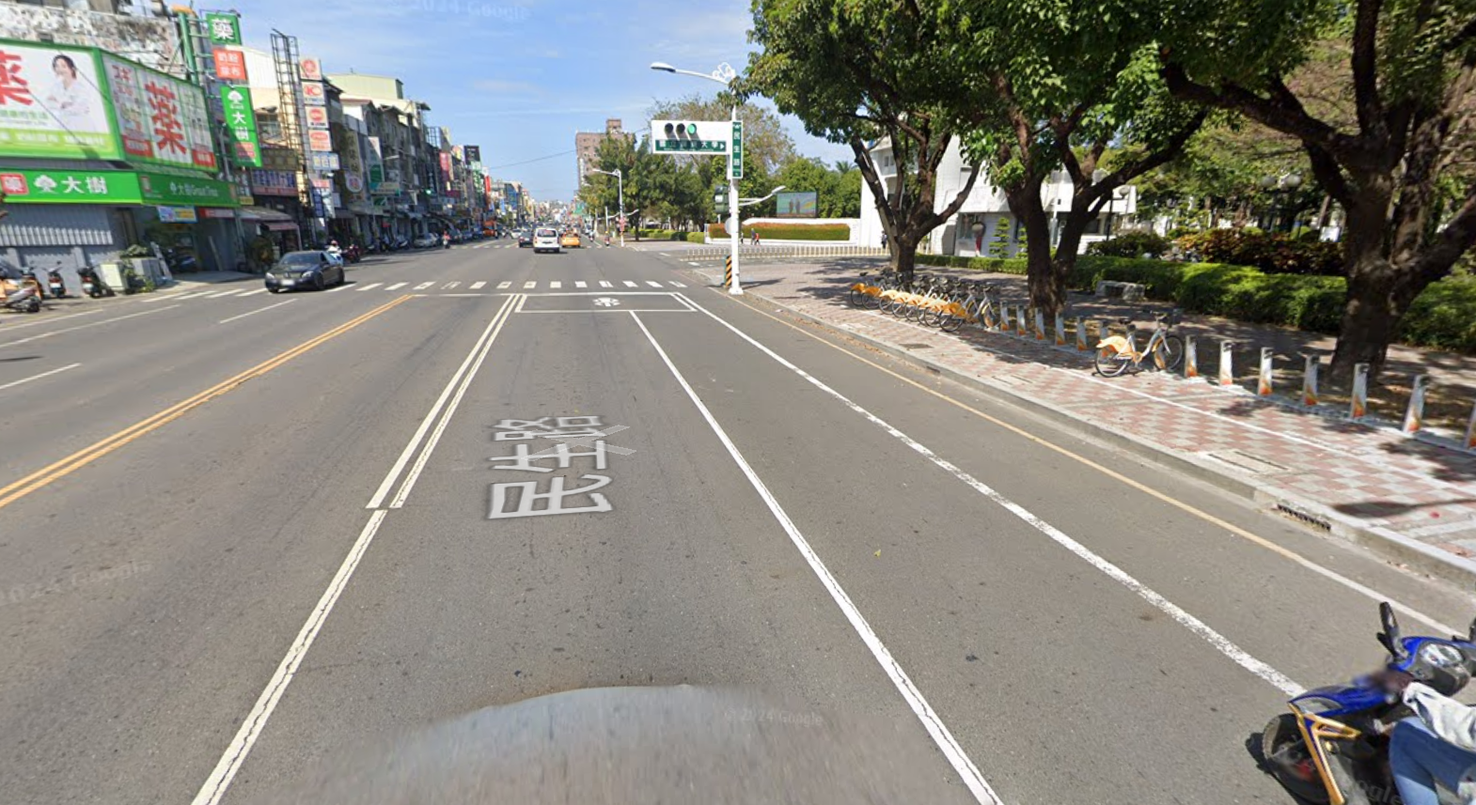green: (657, 113, 708, 139), (413, 185, 432, 195)
